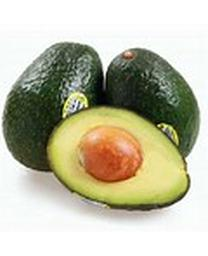avocado: (45, 104, 193, 211), (3, 40, 107, 173), (103, 49, 202, 171)
